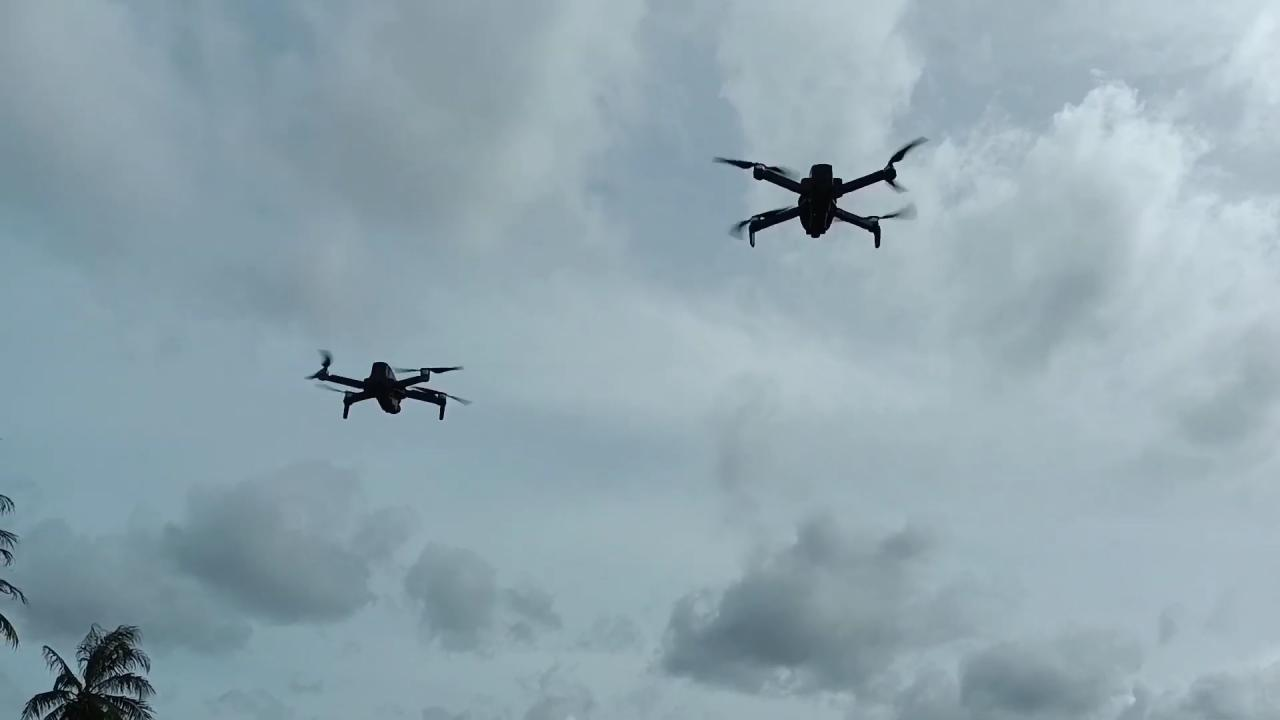Drone: (705, 127, 944, 262), (294, 341, 485, 433)
